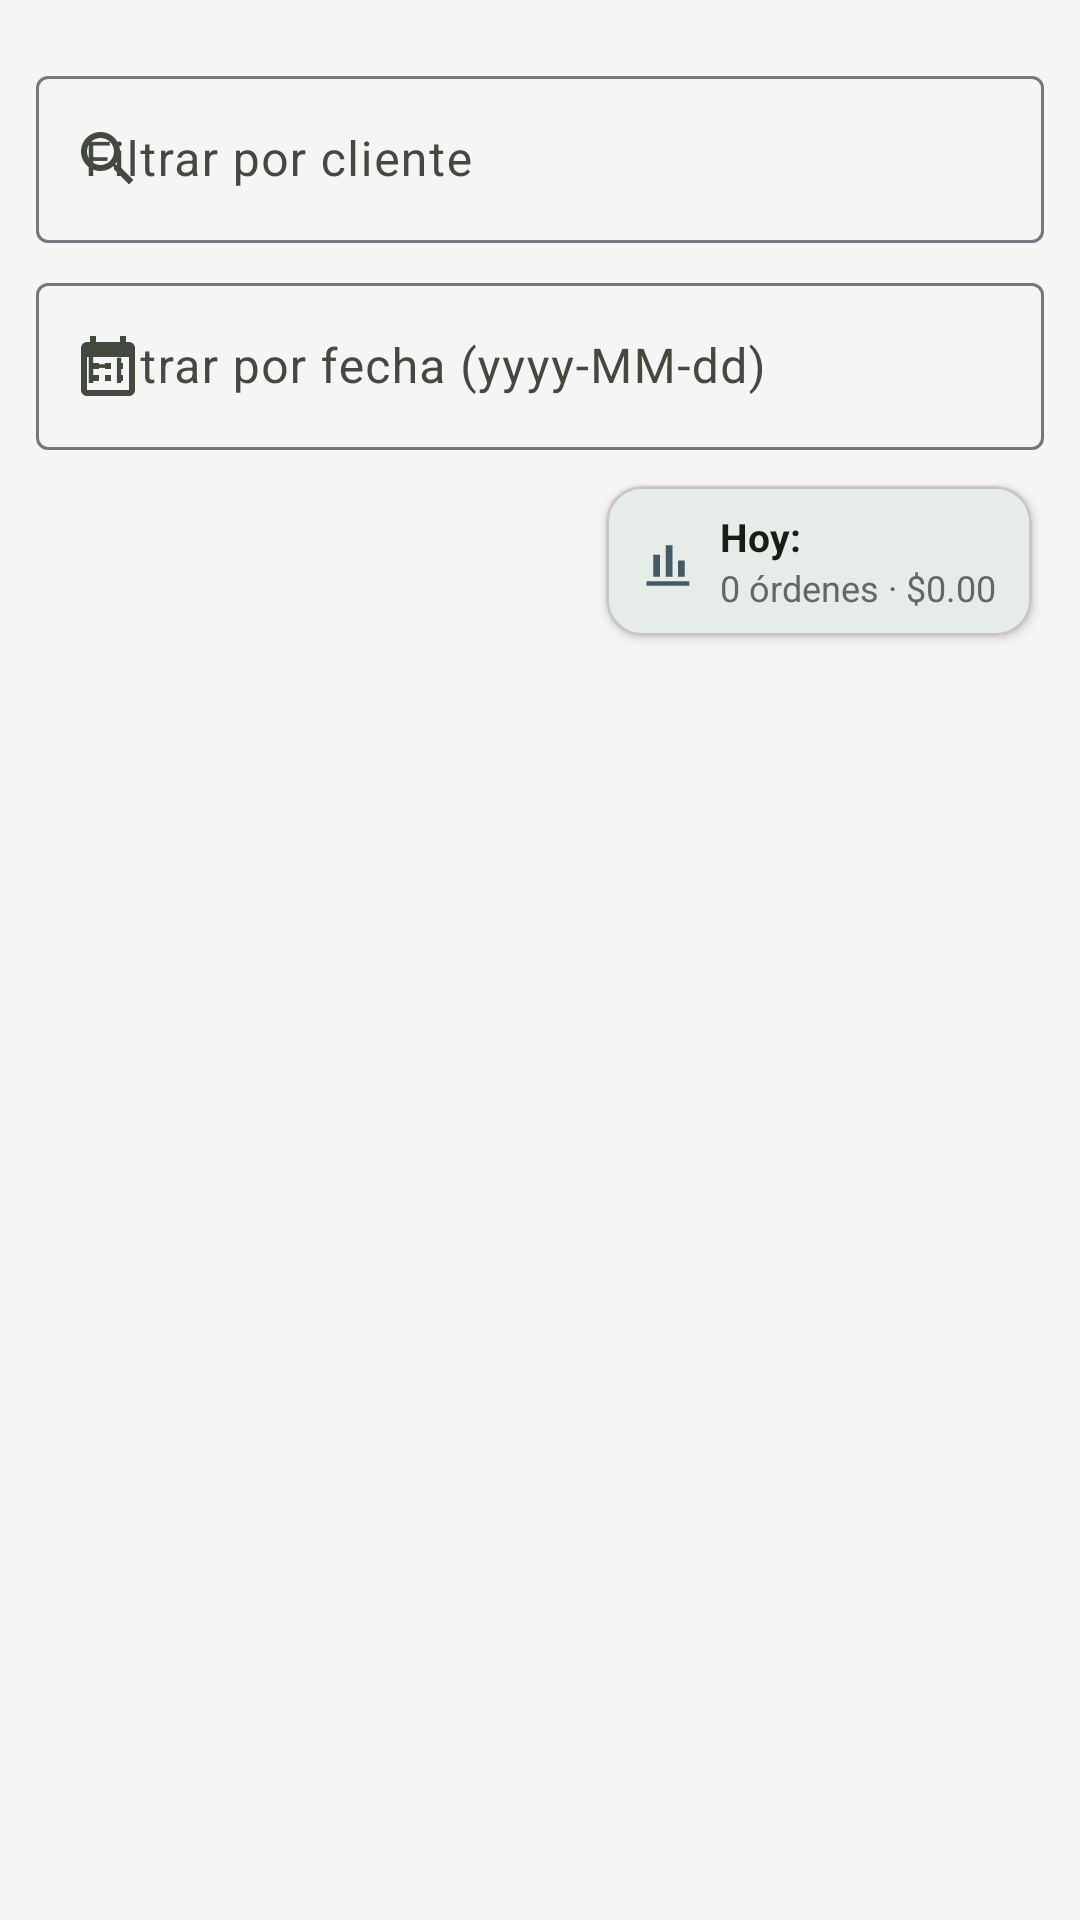

Icons on this 1080 × 1920 Android screen, each with the point to tap as (x=x, y=y):
report: (x=668, y=565)
